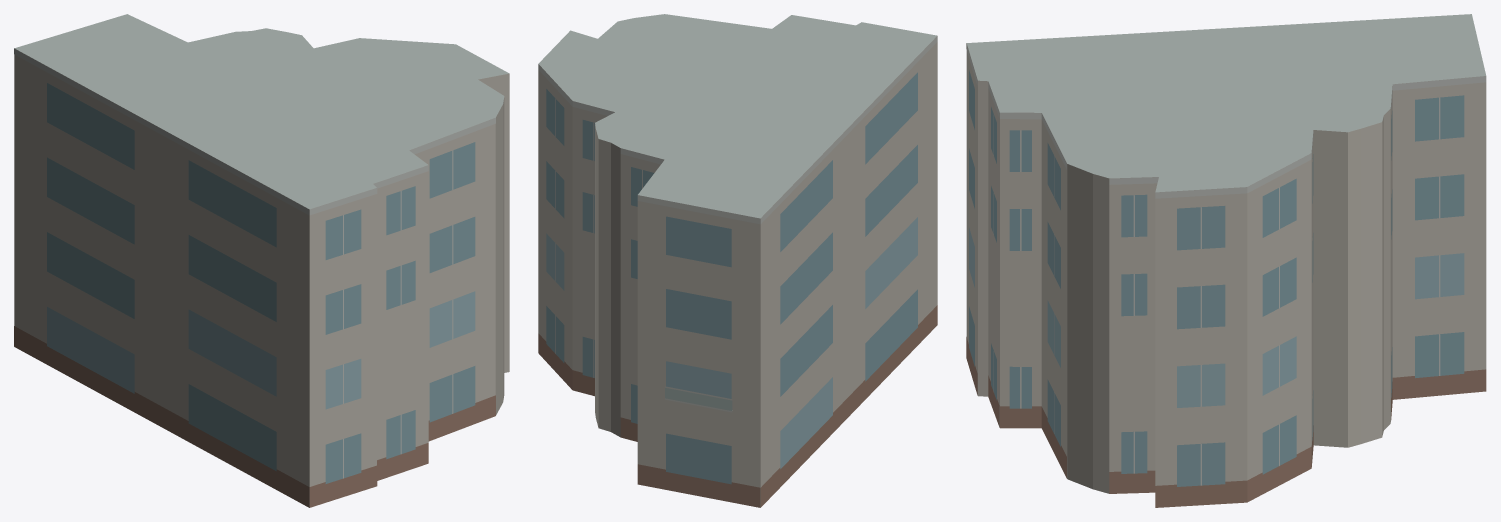
Rendered from survey-upis-32889442.glb.
3 views of the same model, side by side, from view 1: azimuth 30°, elevation 25°; view 2: azimuth 150°, elevation 25°; view 3: azimuth 270°, elevation 25° (orthographic). The views are drawn at different scales.
Parts seen in each view (by area): view 1: survey-upis-32889442.tmp; view 2: survey-upis-32889442.tmp; view 3: survey-upis-32889442.tmp.
Part boxes in pixels (x1,y1,x2,y2): survey-upis-32889442.tmp: [14, 14, 509, 507]; survey-upis-32889442.tmp: [538, 14, 937, 507]; survey-upis-32889442.tmp: [966, 14, 1486, 507].
Bounding box in the file's own units: 14.56 × 12 × 17.93.
